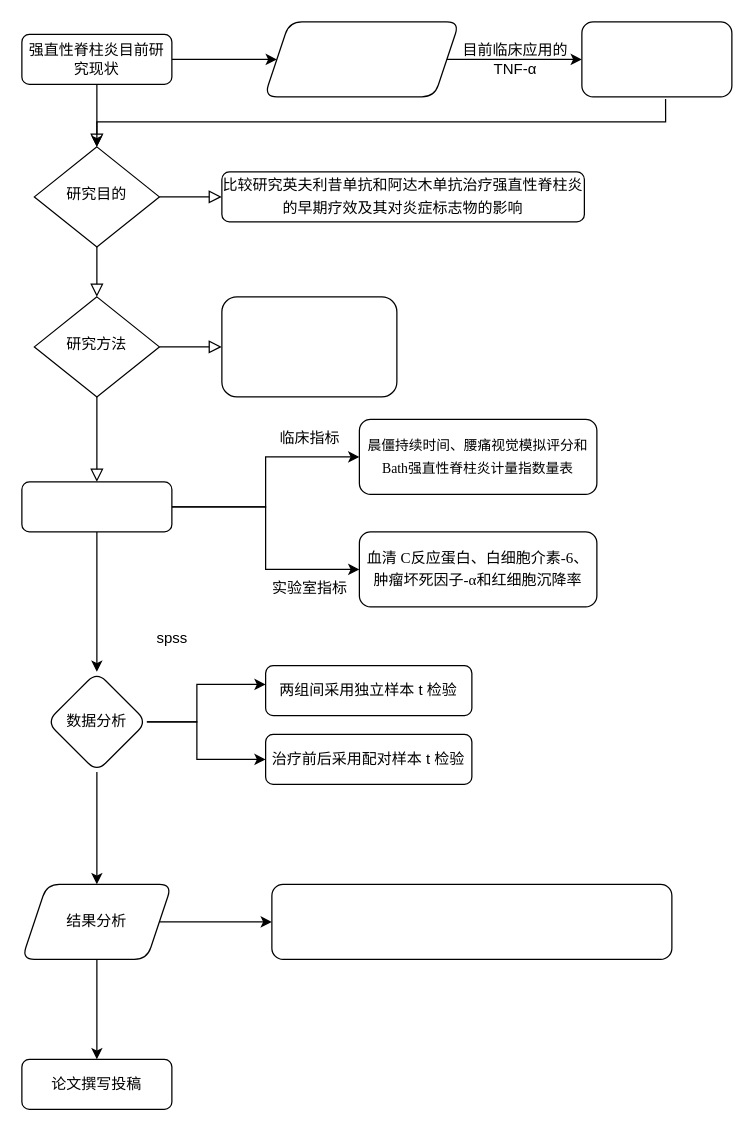
This 754x1131 diagram has some shape labels left out. Each missing label, with the centre of its shape:
"TNF-α 单克隆抗体对 AS 的治疗有显著作用" goes at point (361, 59).
"英夫利昔单抗和阿达木单抗" goes at point (656, 59).
"观察指标" goes at point (96, 506).
"阿达木单抗在改善临床症状方面优于英夫利昔单抗 英夫利昔单抗在降低血清炎性细胞因子方面优于阿达木单抗" goes at point (471, 921).
"随机分组，英夫利昔单抗组和阿达木单抗组" goes at point (309, 346).
